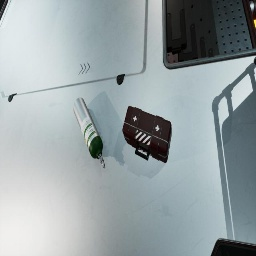0: (73, 97, 105, 169)
FirstAidBox ,: (122, 106, 172, 163)
